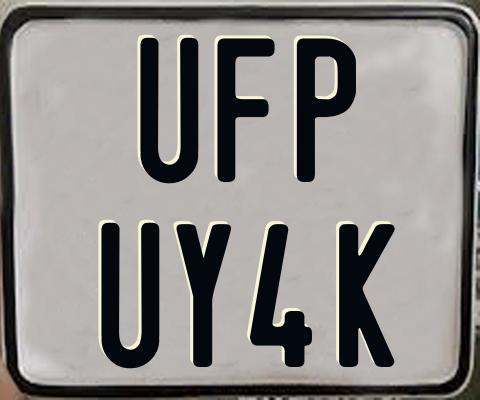4: (250, 221, 318, 365)
F: (214, 37, 276, 182)
K: (338, 222, 394, 369)
P: (296, 38, 356, 183)
U: (100, 223, 160, 368), (139, 36, 197, 185)
Y: (176, 221, 234, 365)
